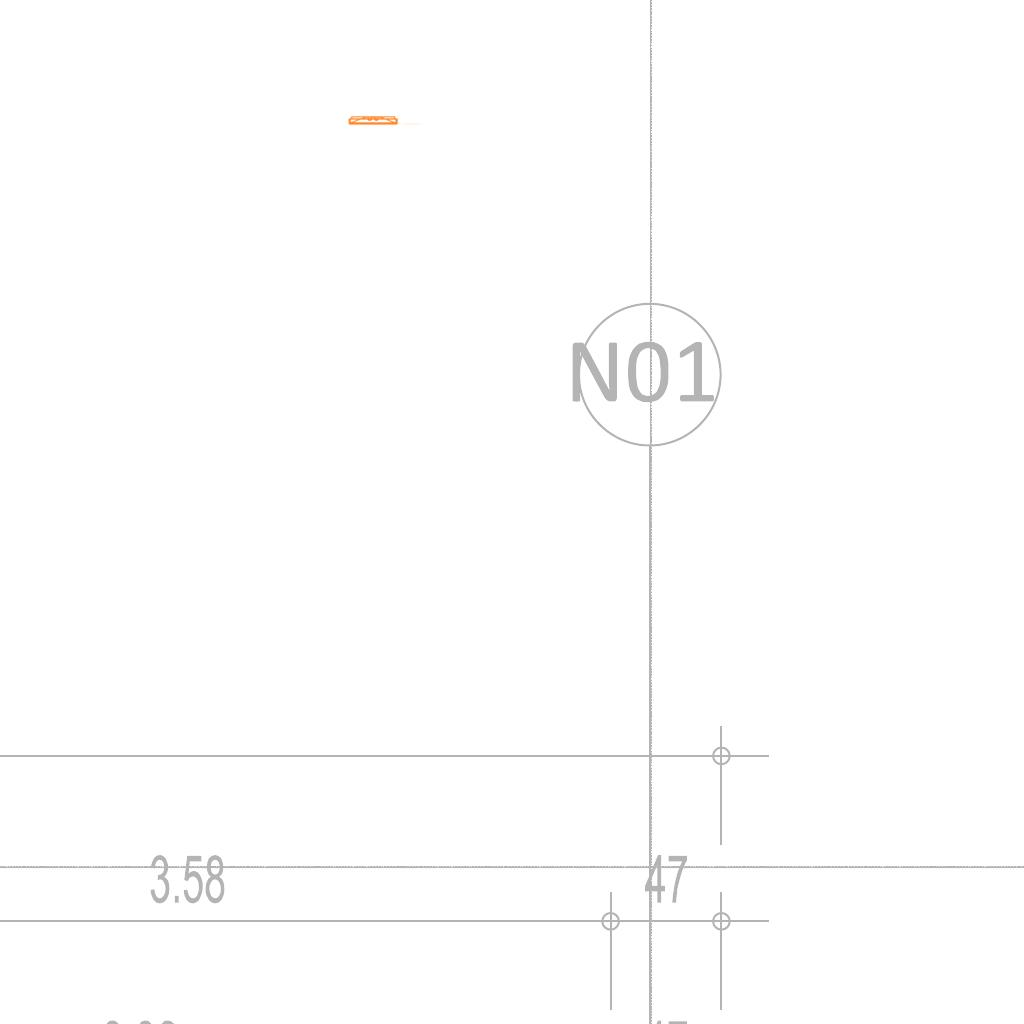Sicherheitsleuchte_Wandeinbau: (346, 114, 425, 126)
